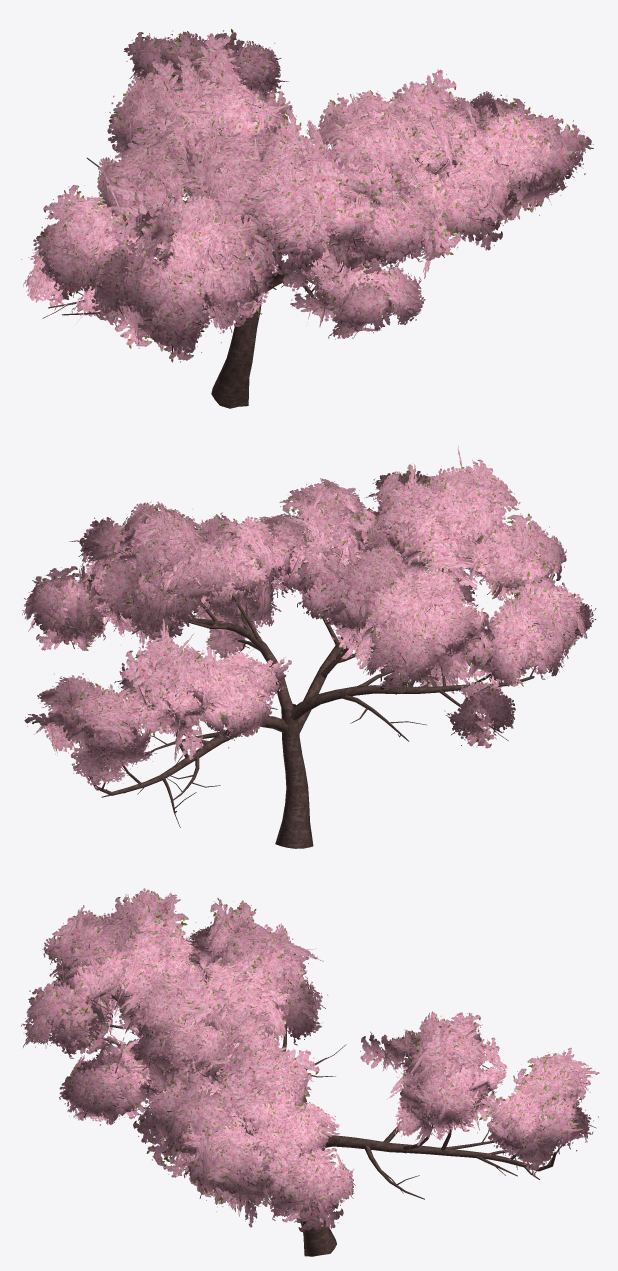
The model's file is Sakura_B.fbx.
3 views of the same model, one above another, from view 1: azimuth 30°, elevation 25°; view 2: azimuth 150°, elevation 25°; view 3: azimuth 270°, elevation 25° (orthographic). The views are drawn at different scales.
Parts seen in each view (by area): view 1: Sakura_B; view 2: Sakura_B; view 3: Sakura_B.
Boxes of the visible parts, box(x1,y1,x2,y2) form: Sakura_B: box(21, 29, 593, 408); Sakura_B: box(22, 446, 596, 848); Sakura_B: box(21, 888, 599, 1256).
Bounding box in the file's own units: 12.63 × 8.06 × 12.93.
Materials: 2 (2 with a texture image).
